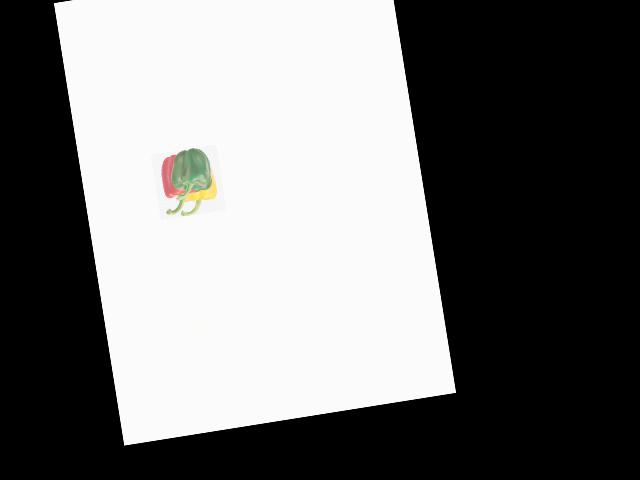bell_pepper: (150, 151, 197, 218)
